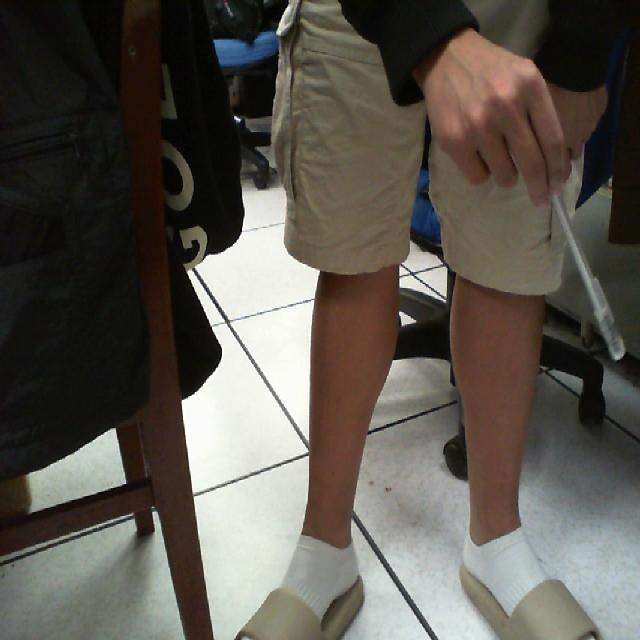Pen: (514, 138, 636, 393)
